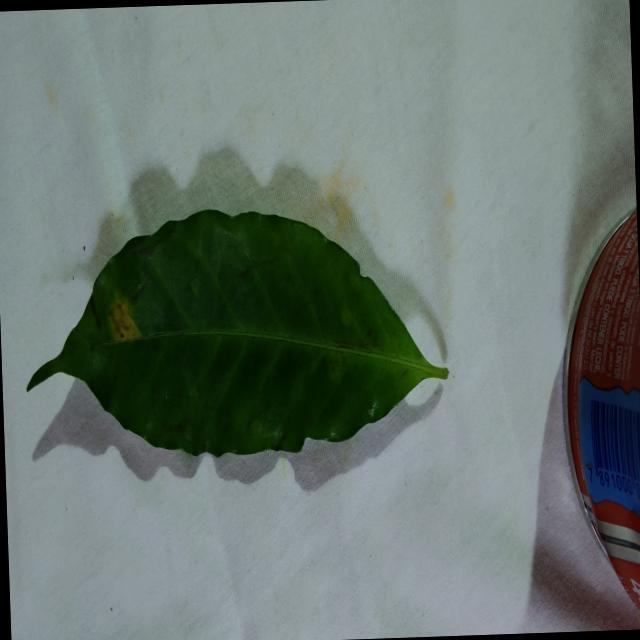KaratDaunKopi: (109, 299, 141, 339)
